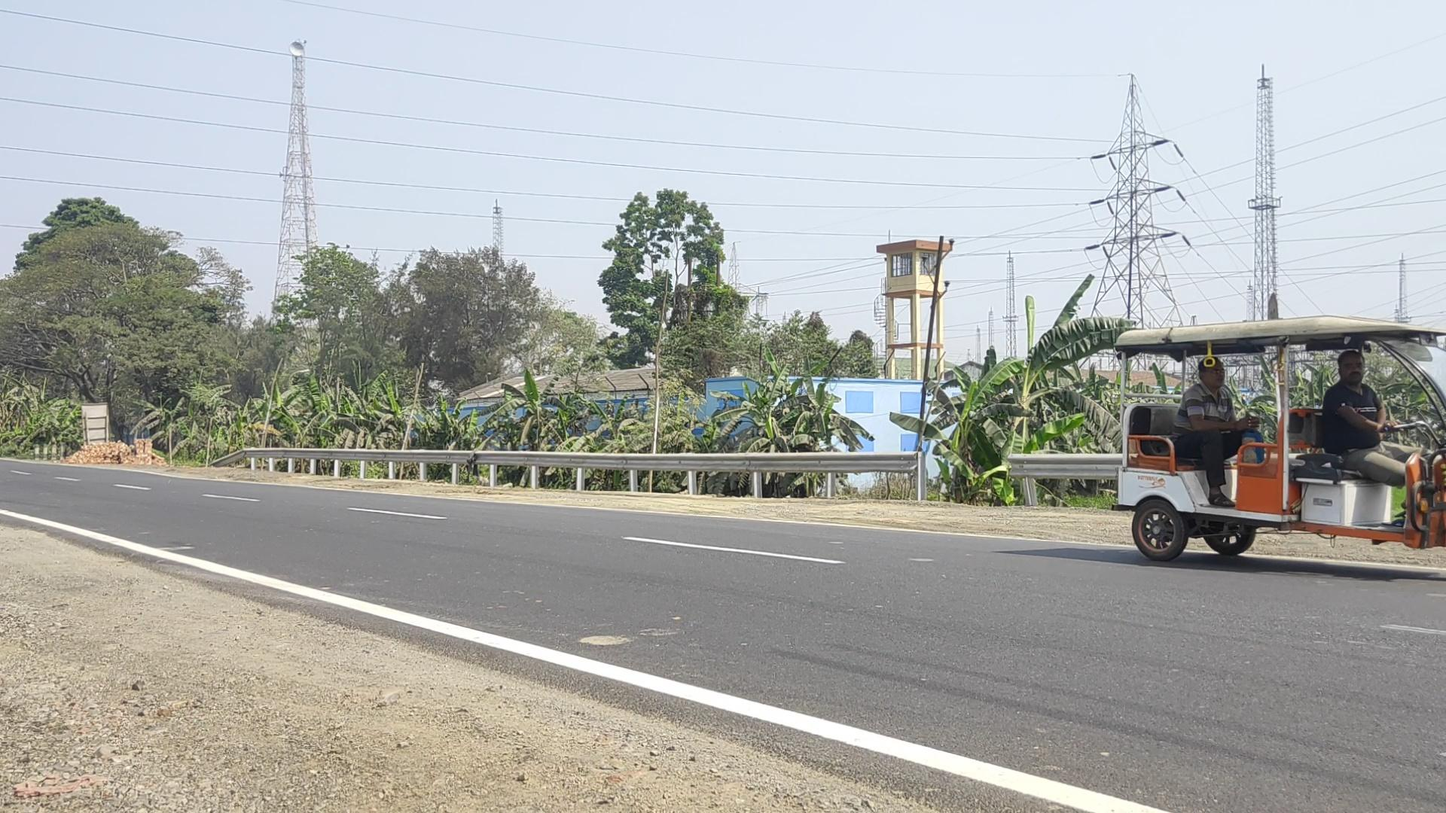Auto: (1111, 315, 1446, 568)
